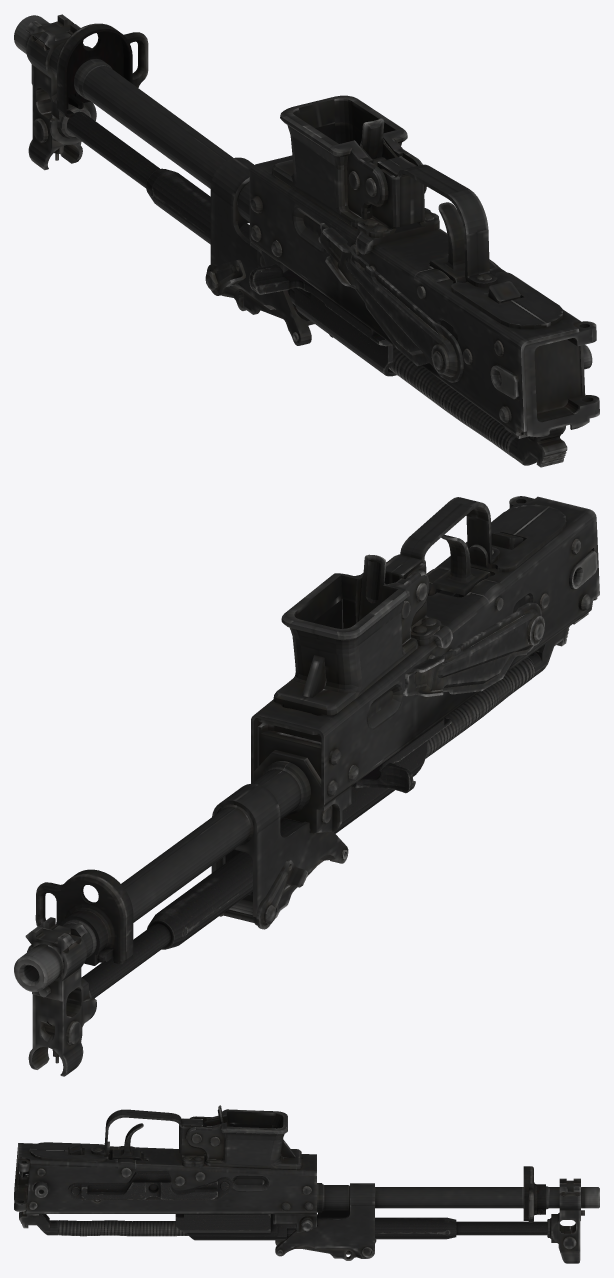
3 renders of one model, top to bottom at view 1: azimuth 30°, elevation 25°; view 2: azimuth 150°, elevation 25°; view 3: azimuth 270°, elevation 25°, orthographic. The views are drawn at different scales.
Parts seen in each view (by area): view 1: TW_59984ab886f7743e98271174_PZ_Import; view 2: TW_59984ab886f7743e98271174_PZ_Import; view 3: TW_59984ab886f7743e98271174_PZ_Import.
Boxes of the visible parts, <box> form: TW_59984ab886f7743e98271174_PZ_Import: <box>14,14,599,467</box>; TW_59984ab886f7743e98271174_PZ_Import: <box>14,496,599,1076</box>; TW_59984ab886f7743e98271174_PZ_Import: <box>14,1105,599,1263</box>.
Size of the model in its own units: 0.0367 by 0.2515 by 0.0722.
1 material, 1 textured.
